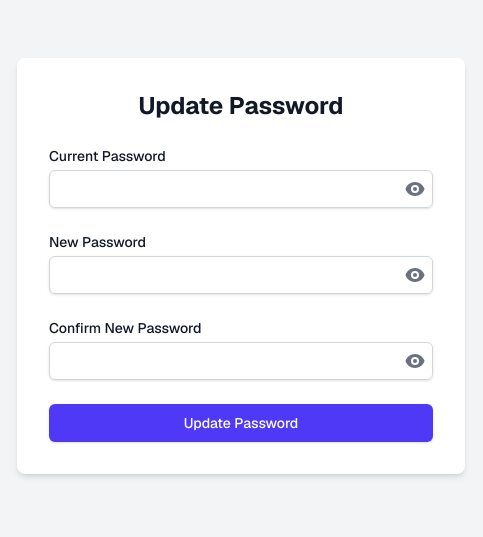
UpdatePasswordForm - Comprehensive Tests › Basic Validation › should show validation error for short current password
In the password field labelled "Current Password": (241, 189) [49, 170, 433, 208], type "123"
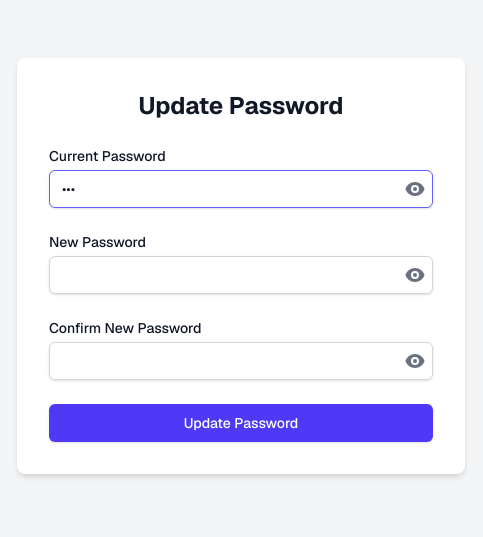
Click the button "Update Password": click(241, 423) [49, 404, 433, 442]
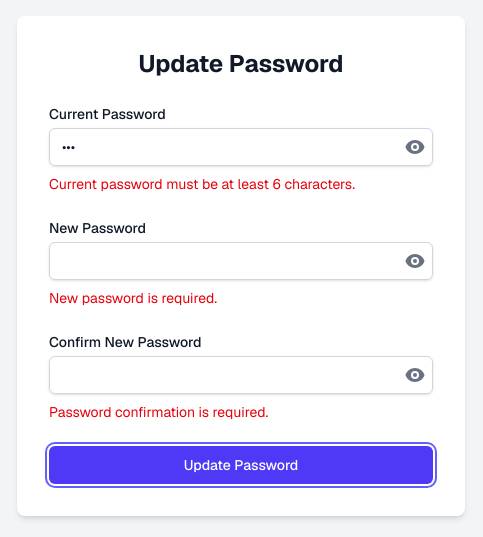
Expected: the text "Current password must be at least 6 characters." is shown, [49, 175, 355, 193]
